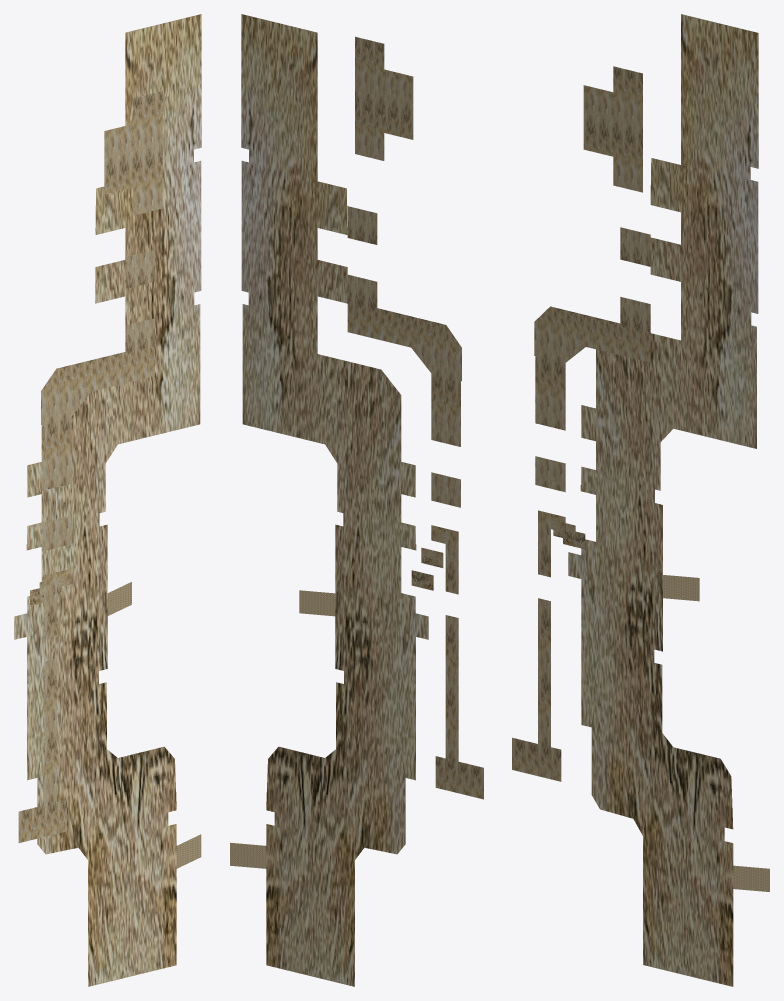
Rendered from map_surface.obj.
3 views of the same model, side by side, from view 1: azimuth 30°, elevation 25°; view 2: azimuth 150°, elevation 25°; view 3: azimuth 330°, elevation 25° (orthographic).
Parts seen in each view (by area): view 1: Rectangle19; view 2: Rectangle19; view 3: Rectangle19.
Boxes of the visible parts, x1,y1,x2,y2 form: Rectangle19: (14,14,201,986); Rectangle19: (230,14,483,986); Rectangle19: (512,14,769,986).
Bounding box in the file's own units: 1477 × 6114 × 506.
